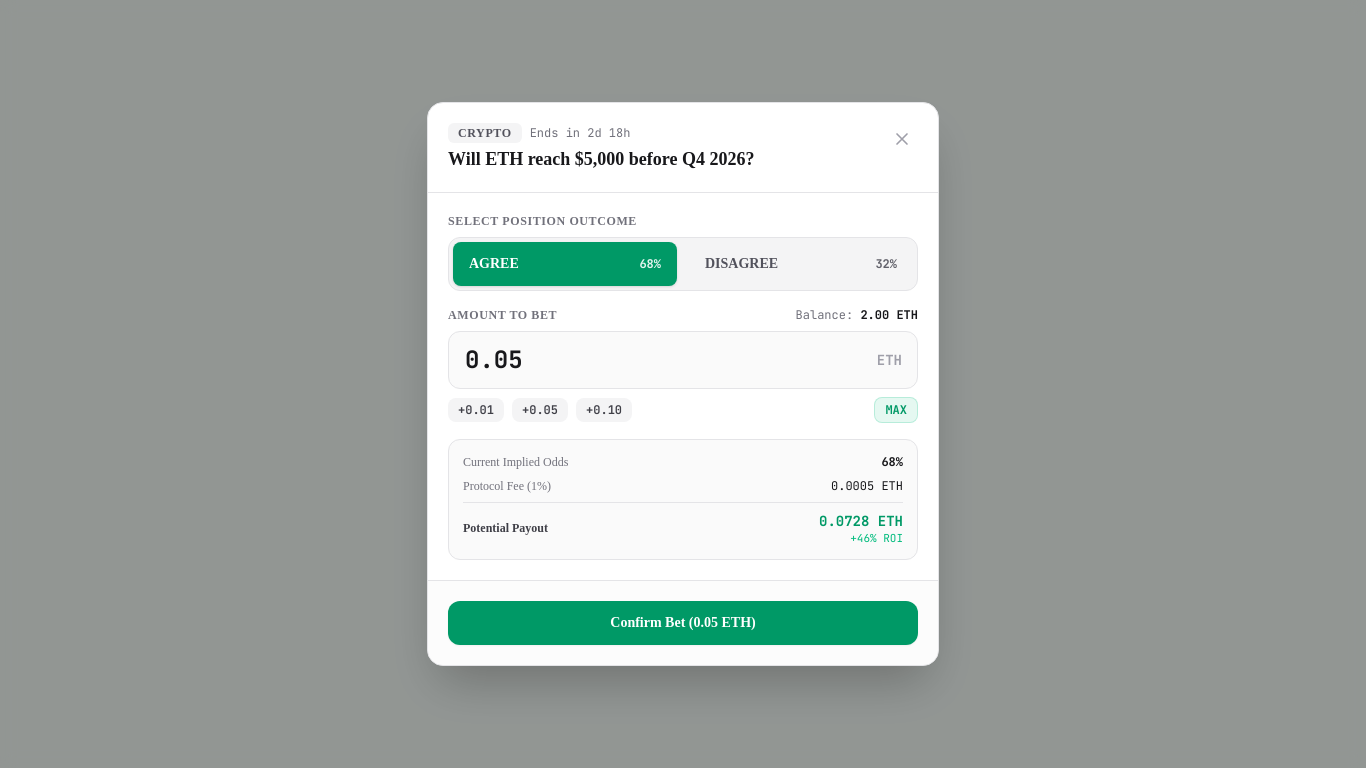
Scenario: BettingModal Component › shows validation error when amount exceeds balance
The width and height of the screenshot is (1366, 768).
Replace the text in the field named "bet amount in eth" with "5.00" at [683, 360], box [448,330,918,388]
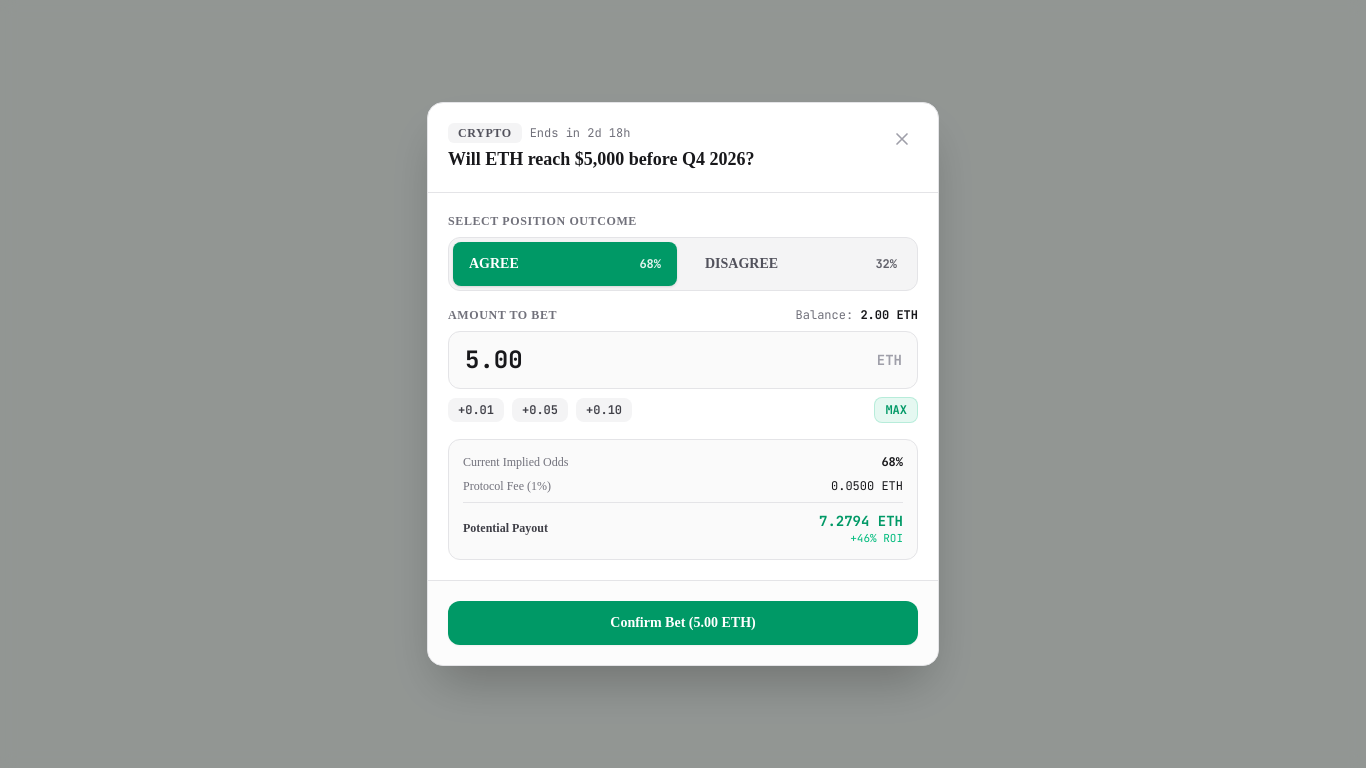
Click the button "Confirm Bet (5.00 ETH)".
click(683, 623)  # box [448,601,918,645]
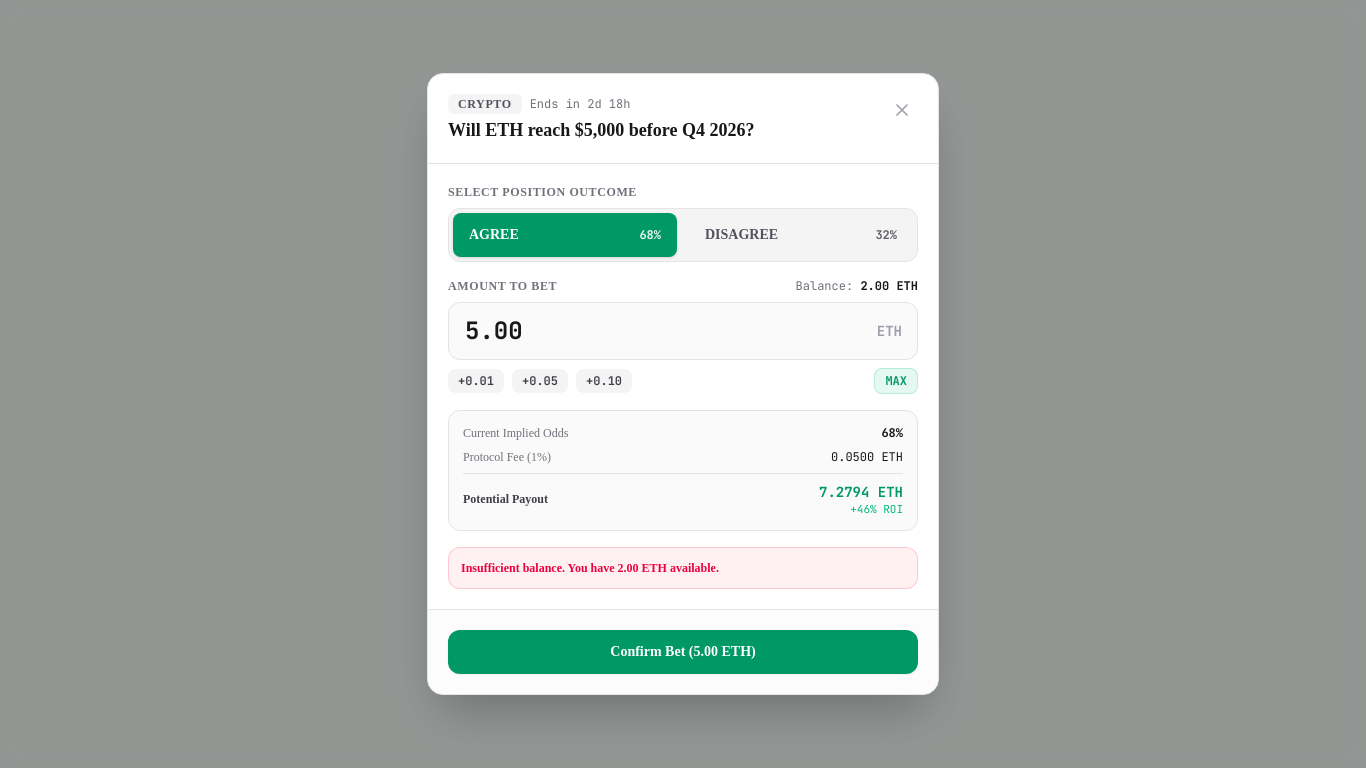
Check: the text "Insufficient balance. You have 2.00 ETH available." is shown, box [448,547,918,589]
